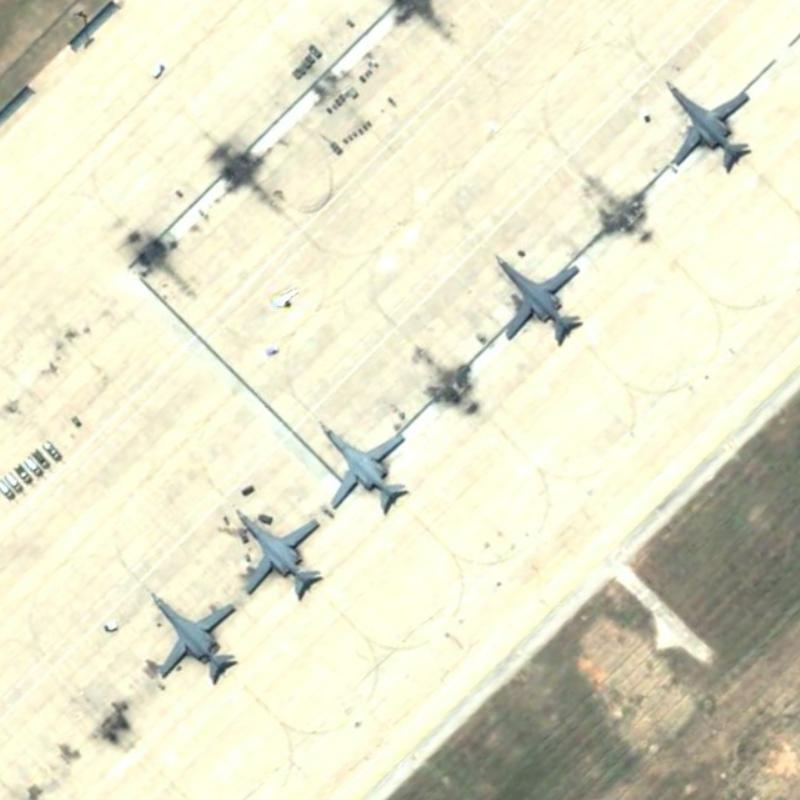A10: (137, 580, 251, 690), (479, 247, 594, 354), (658, 73, 764, 183), (308, 419, 415, 521), (232, 499, 325, 604)
